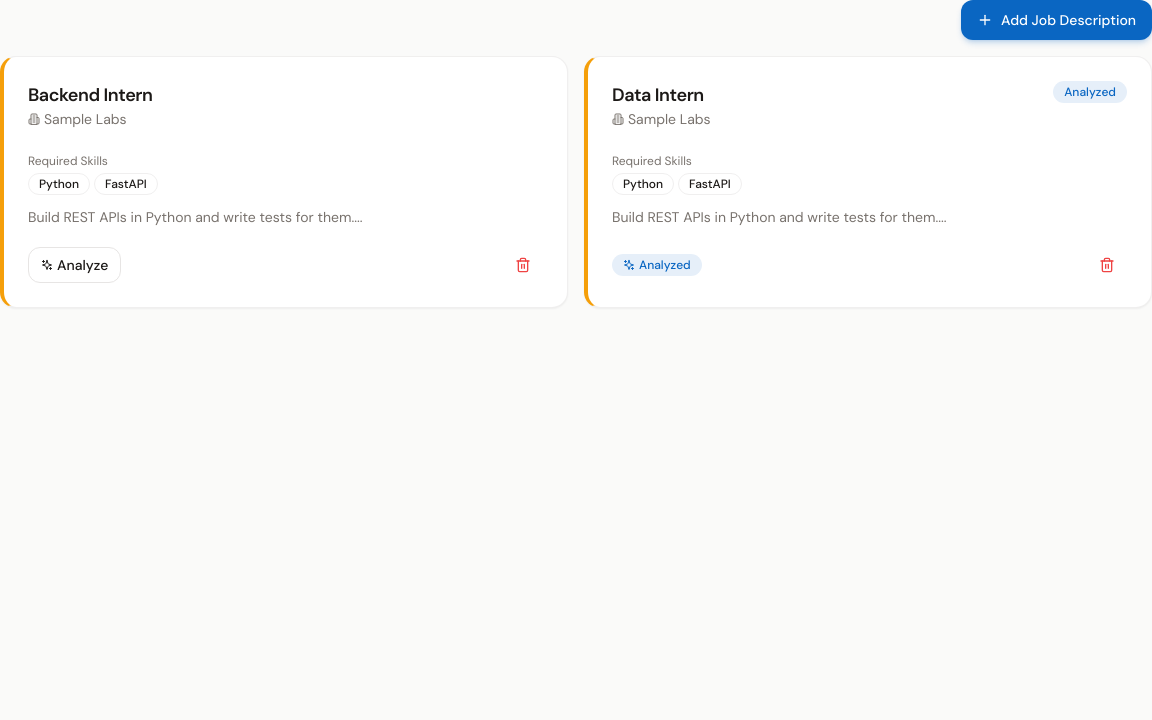
Scenario: JobsList › opens the full description from a card
Click the heading "Data Intern": (661, 95) [612,81,711,109]
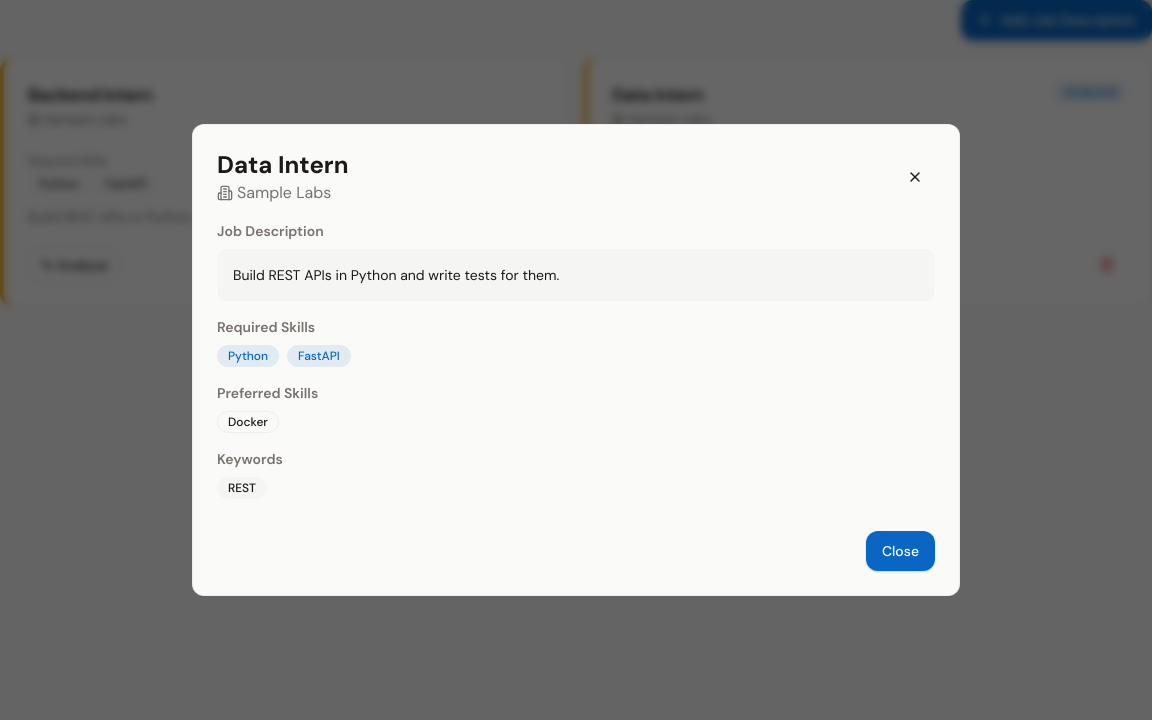
Expected: the heading "Data Intern" is shown, [217,149,348,181]
